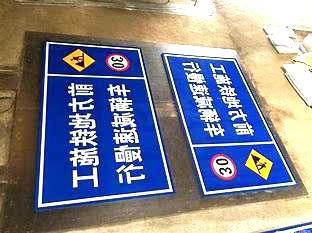sign: (47, 43, 156, 203), (177, 52, 274, 196)
